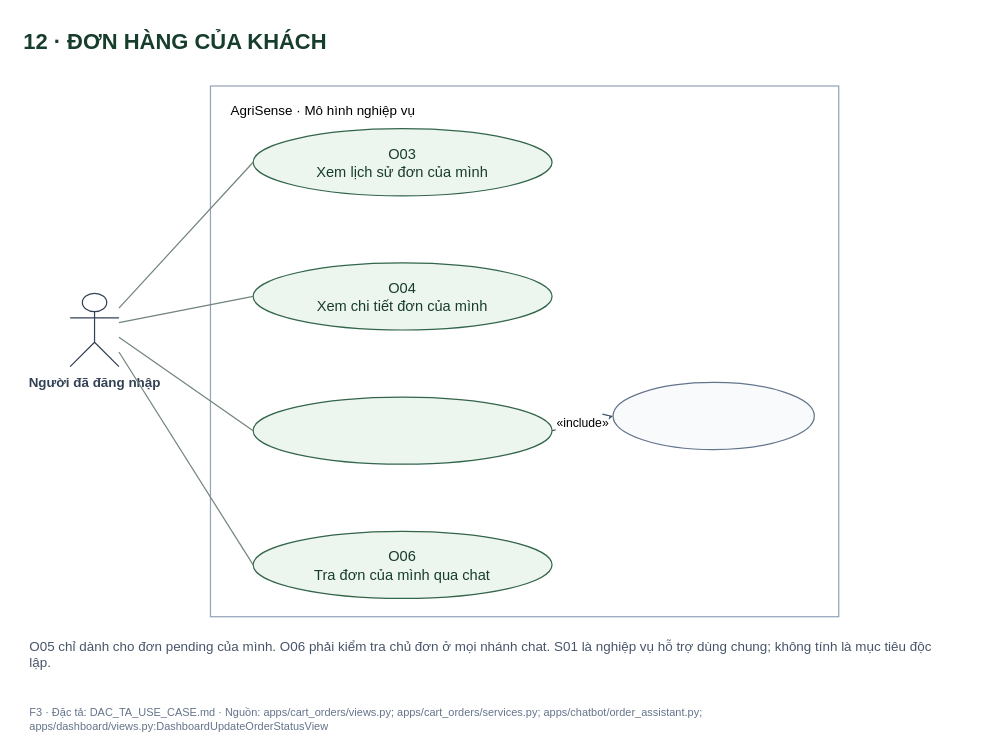
This 987x754 diagram has some shape labels left out. Here are the shapes that lost their labels. From the top down, the centre of each, then its label:
At point (402, 430): "O05 Hủy đơn của mình".
At point (713, 415): "S01 Hoàn tồn kho của đơn hủy".
